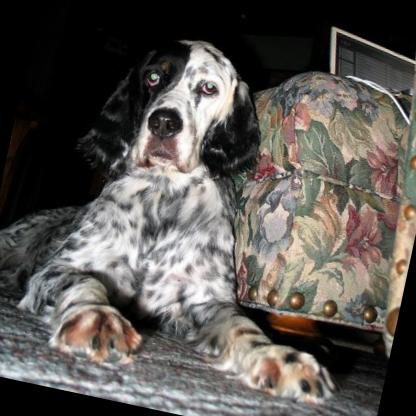English_setter: (0, 1, 409, 416)
